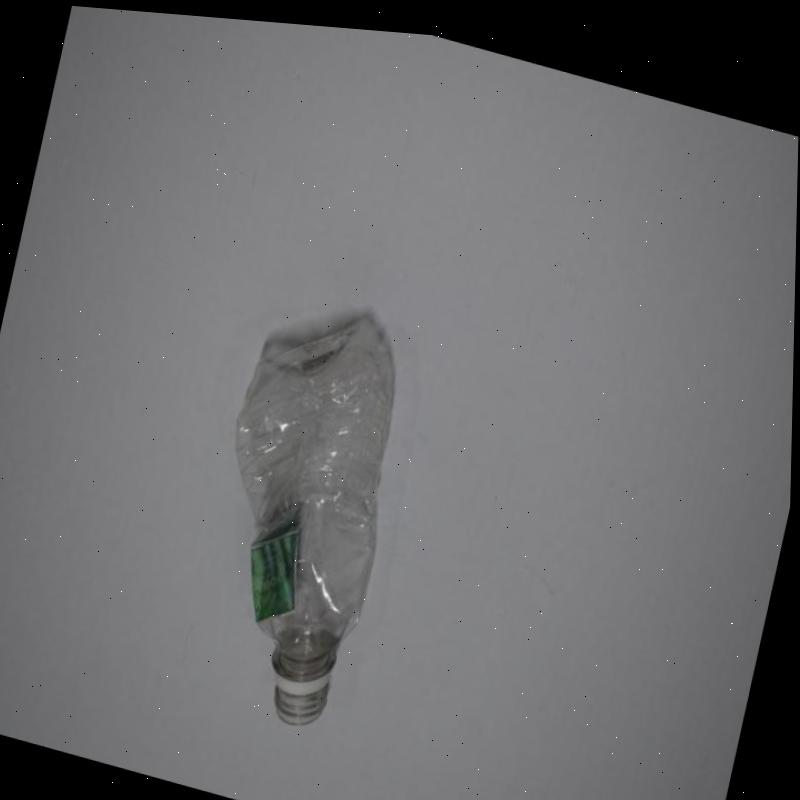botella: (178, 277, 424, 737)
